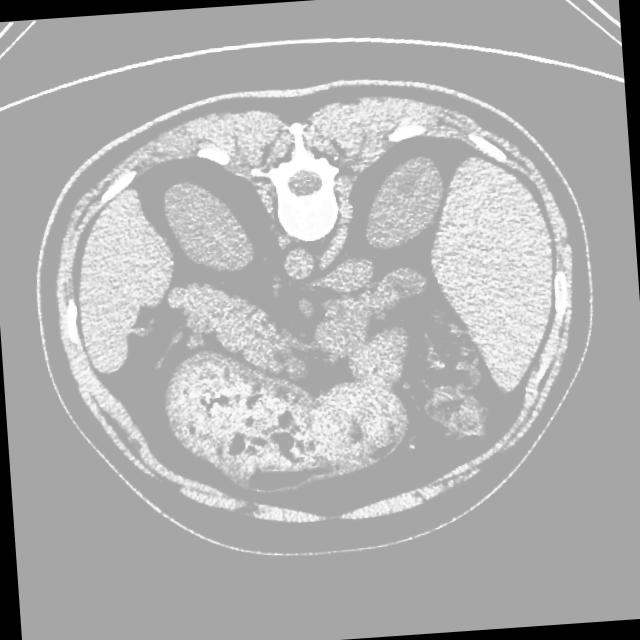cysts: (35, 70, 600, 556)
